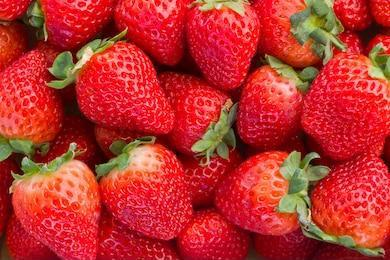Fresa: (73, 37, 183, 141), (9, 155, 106, 260), (100, 140, 196, 244), (213, 146, 311, 241), (307, 149, 390, 255), (231, 58, 309, 152), (1, 46, 69, 153), (185, 1, 264, 93)
